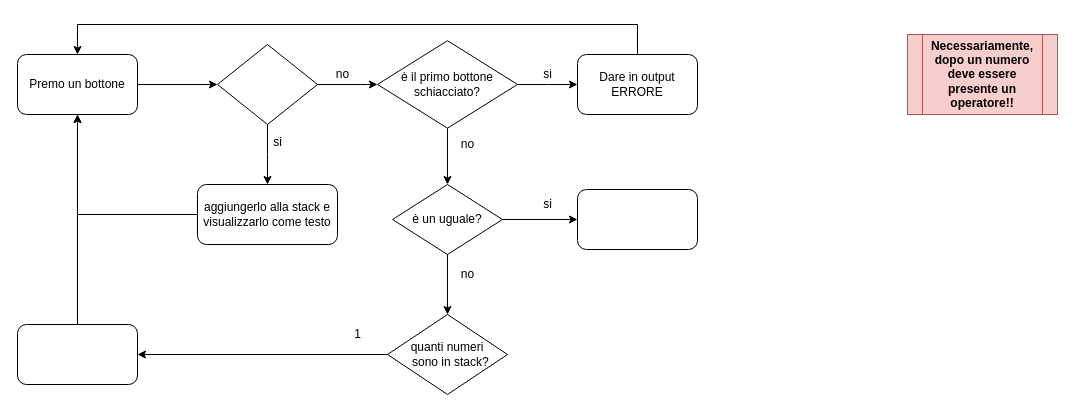
Some shapes in this 1075 by 412 pixel diagram are drawn without their labels. The shapes that lost their labels are listed below. From the top down, each one's centre as x and y in pixels, then its label:
(x=267, y=84): è un numero?
(x=637, y=219): Effettuare l'operazione e metterla in output
(x=77, y=354): Aggiungerlo alla stack come operatore e continuare
